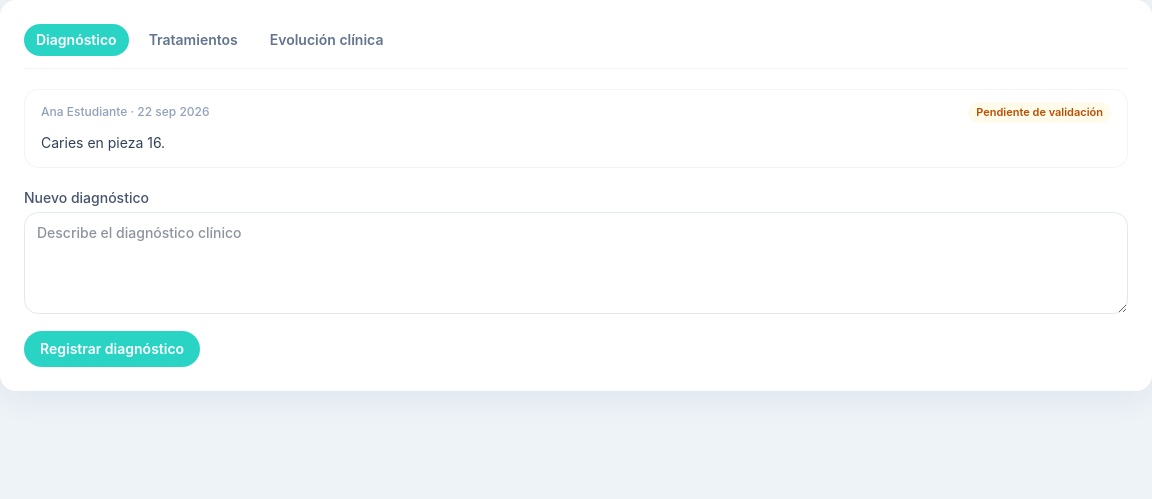
Test case: PatientClinicalTabs › registra un diagnóstico nuevo
The width and height of the screenshot is (1152, 499).
Expected: the text "Caries en pieza 16." is shown, 41,134 -> 165,150
Type "Fractura en 21." into the text box with placeholder "Describe el diagnóstico clínico" at (576, 262), box 24,212 -> 1128,314
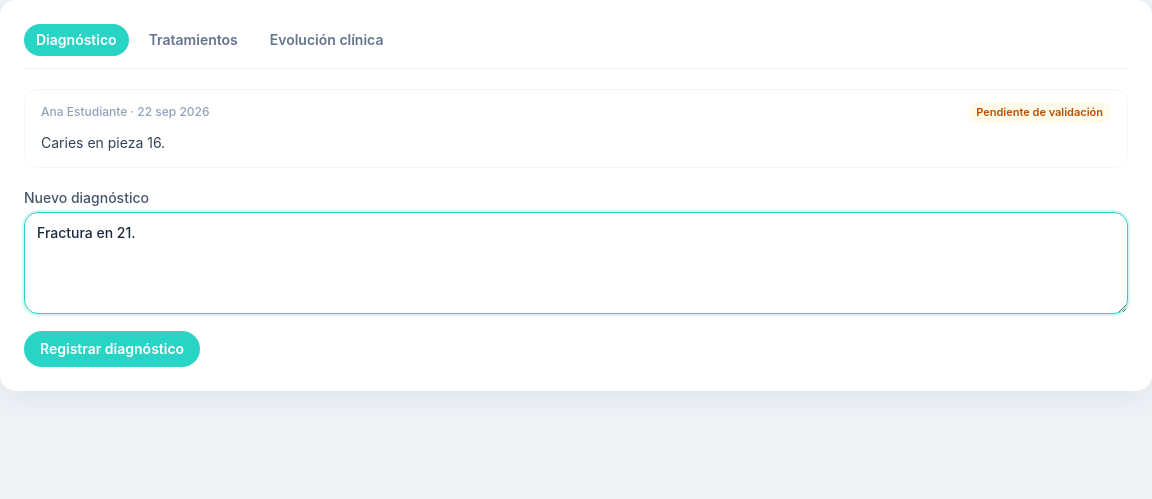
Click the button "Registrar diagnóstico" at (112, 348), box 24,330 -> 200,366
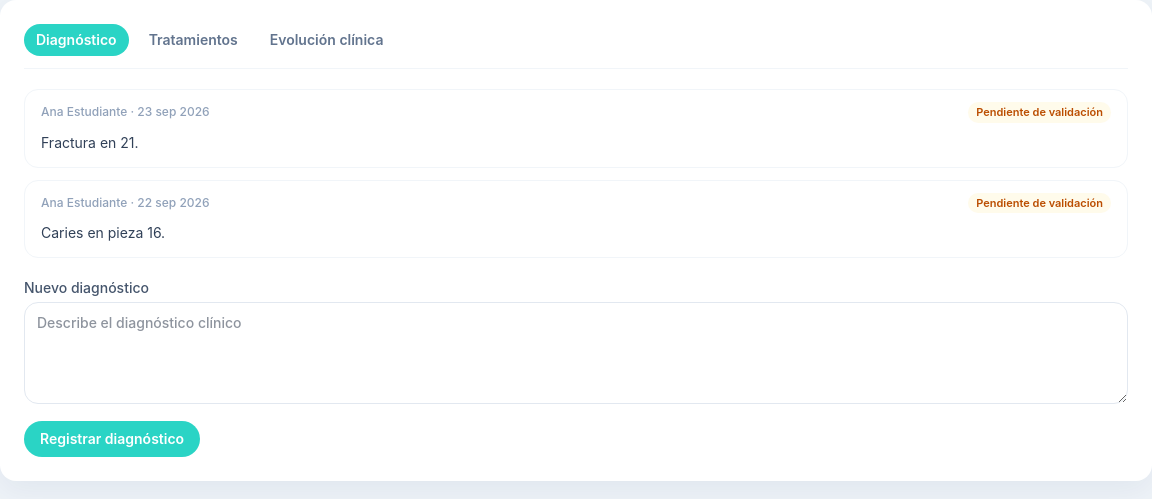
Now the text "Fractura en 21." is shown, box 41,134 -> 139,150
